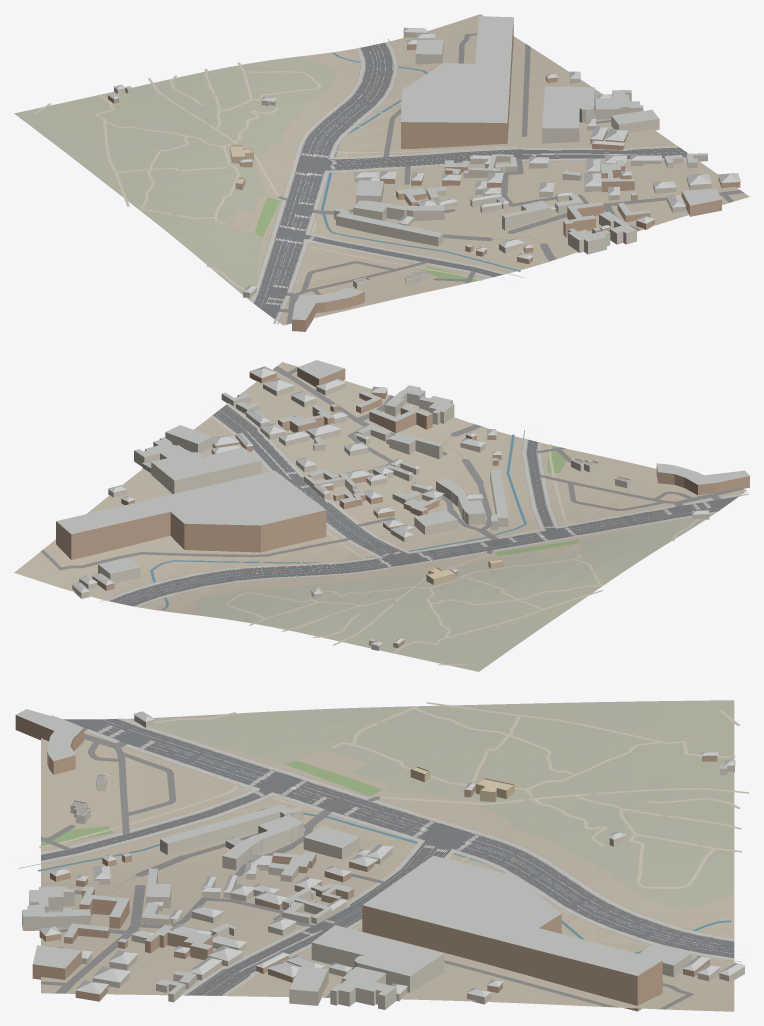
Rendered from bolak_3_-3.glb.
3 renders of one model, top to bottom at view 1: azimuth 30°, elevation 25°; view 2: azimuth 150°, elevation 25°; view 3: azimuth 270°, elevation 25°, orthographic. The views are drawn at different scales.
Visible parts, largest first — view 1: Yer_Tuproq-col, Yer_Qabr, Tom_Shifer, Yol_Asfalt-col, Devor_Suvoq-col, Devor_Gisht-col, Trotuar, Yol_Mahalla-col, Yol_Piyoda, Yol_Chiziq, Ariq, Suv (+1 smaller); view 2: Yer_Tuproq-col, Yer_Qabr, Tom_Shifer, Devor_Gisht-col, Yol_Asfalt-col, Devor_Suvoq-col, Yol_Mahalla-col, Trotuar, Yol_Piyoda, Ariq, Yol_Chiziq, Suv (+1 smaller); view 3: Yer_Qabr, Yer_Tuproq-col, Tom_Shifer, Yol_Asfalt-col, Devor_Gisht-col, Devor_Suvoq-col, Trotuar, Yol_Mahalla-col, Yol_Piyoda, Yol_Chiziq, Ariq, Yer_Maysa (+2 smaller).
Part boxes in pixels (bbox=[...]): Yer_Tuproq-col: bbox=[64, 14, 749, 325]; Yer_Qabr: bbox=[14, 56, 337, 299]; Tom_Shifer: bbox=[108, 16, 740, 320]; Yol_Asfalt-col: bbox=[254, 42, 687, 319]; Devor_Suvoq-col: bbox=[114, 32, 711, 297]; Devor_Gisht-col: bbox=[108, 18, 740, 331]; Trotuar: bbox=[251, 41, 686, 321]; Yol_Mahalla-col: bbox=[278, 33, 743, 324]; Yol_Piyoda: bbox=[34, 62, 516, 323]; Yol_Chiziq: bbox=[257, 39, 691, 307]; Ariq: bbox=[255, 38, 626, 324]; Suv: bbox=[321, 53, 520, 271]; Yer_Tuproq-col: bbox=[14, 362, 746, 660]; Yer_Qabr: bbox=[194, 515, 711, 671]; Tom_Shifer: bbox=[56, 360, 749, 645]; Devor_Gisht-col: bbox=[56, 367, 749, 648]; Yol_Asfalt-col: bbox=[109, 404, 738, 606]; Devor_Suvoq-col: bbox=[72, 383, 709, 650]; Yol_Mahalla-col: bbox=[41, 366, 743, 570]; Trotuar: bbox=[105, 403, 741, 606]; Yol_Piyoda: bbox=[225, 444, 748, 665]; Ariq: bbox=[100, 430, 748, 605]; Yol_Chiziq: bbox=[109, 406, 716, 607]; Suv: bbox=[150, 434, 526, 609]; Yer_Qabr: bbox=[131, 700, 734, 911]; Yer_Tuproq-col: bbox=[41, 705, 734, 1011]; Tom_Shifer: bbox=[16, 709, 745, 997]; Yol_Asfalt-col: bbox=[41, 719, 734, 995]; Devor_Gisht-col: bbox=[15, 715, 717, 1011]; Devor_Suvoq-col: bbox=[22, 715, 744, 1009]; Trotuar: bbox=[41, 718, 734, 995]; Yol_Mahalla-col: bbox=[41, 727, 693, 1009]; Yol_Piyoda: bbox=[39, 702, 748, 929]; Yol_Chiziq: bbox=[15, 719, 749, 1001]; Ariq: bbox=[18, 727, 741, 975]; Yer_Maysa: bbox=[41, 760, 382, 847].
Size of what is drawn, in the model's own units: 418 by 25.45 by 425.
